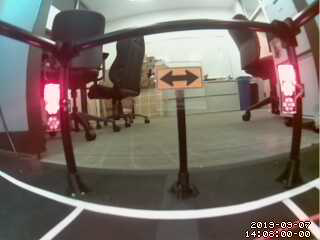Left_Right_sign: (154, 67, 203, 91)
Traffic_light_red: (277, 65, 296, 118), (45, 84, 61, 135)
